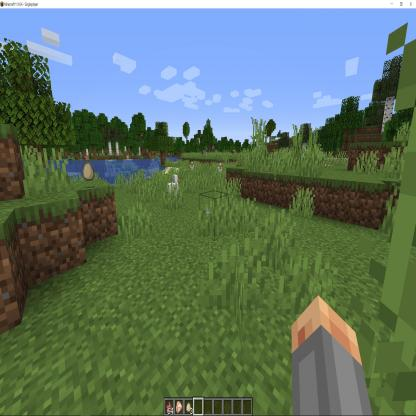minecraft-pigs: (209, 176, 232, 244)
